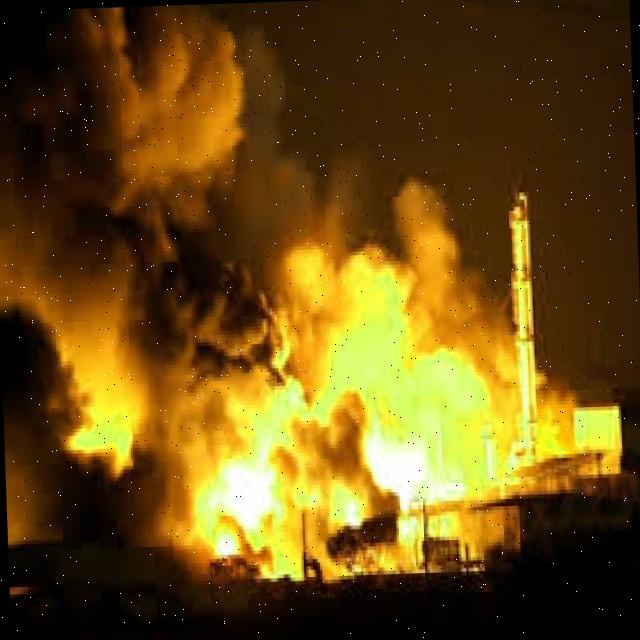explosion: (0, 0, 605, 626)
